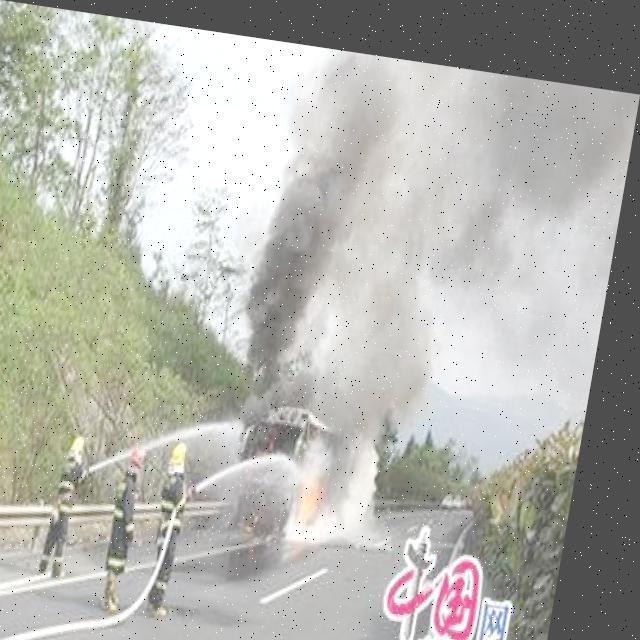Fire: (301, 452, 348, 518)
